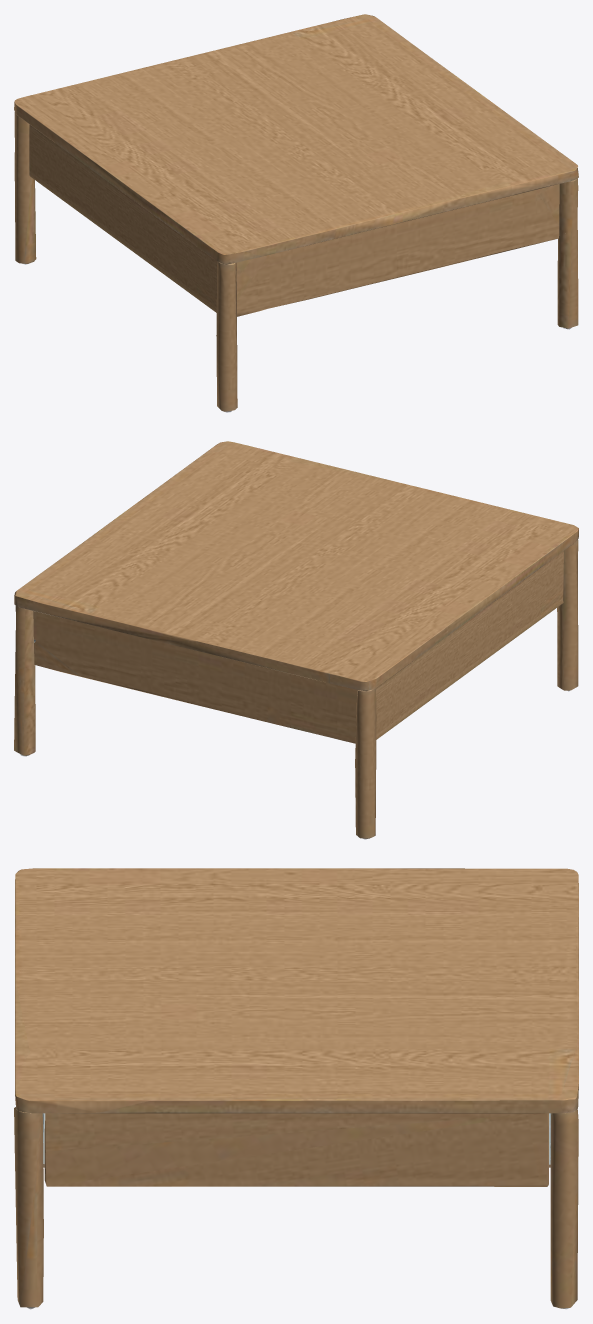
File: 18 - TONSTAD Coffee table - oak veneer 84x82 cm.glb
The picture shows the model from 3 angles, top to bottom: view 1: azimuth 30°, elevation 25°; view 2: azimuth 150°, elevation 25°; view 3: azimuth 270°, elevation 25°; orthographic projection. The views are drawn at different scales.
Visible parts, largest first — view 1: ASY_ART_10489311_S01_NV01, ASY_LPT02_10489311_S01_NV01; view 2: ASY_ART_10489311_S01_NV01, ASY_LPT02_10489311_S01_NV01; view 3: ASY_ART_10489311_S01_NV01, ASY_LPT01_10489311_S01_NV01.
Part boxes in pixels (x1,y1,x2,y2): ASY_ART_10489311_S01_NV01: [14, 14, 578, 412]; ASY_LPT02_10489311_S01_NV01: [29, 124, 217, 312]; ASY_ART_10489311_S01_NV01: [14, 441, 578, 839]; ASY_LPT02_10489311_S01_NV01: [376, 551, 563, 739]; ASY_ART_10489311_S01_NV01: [14, 868, 578, 1309]; ASY_LPT01_10489311_S01_NV01: [44, 1113, 548, 1186].
Size of the model in its own units: 0.822 by 0.3501 by 0.8446.
Materials: 3 (3 with a texture image).
